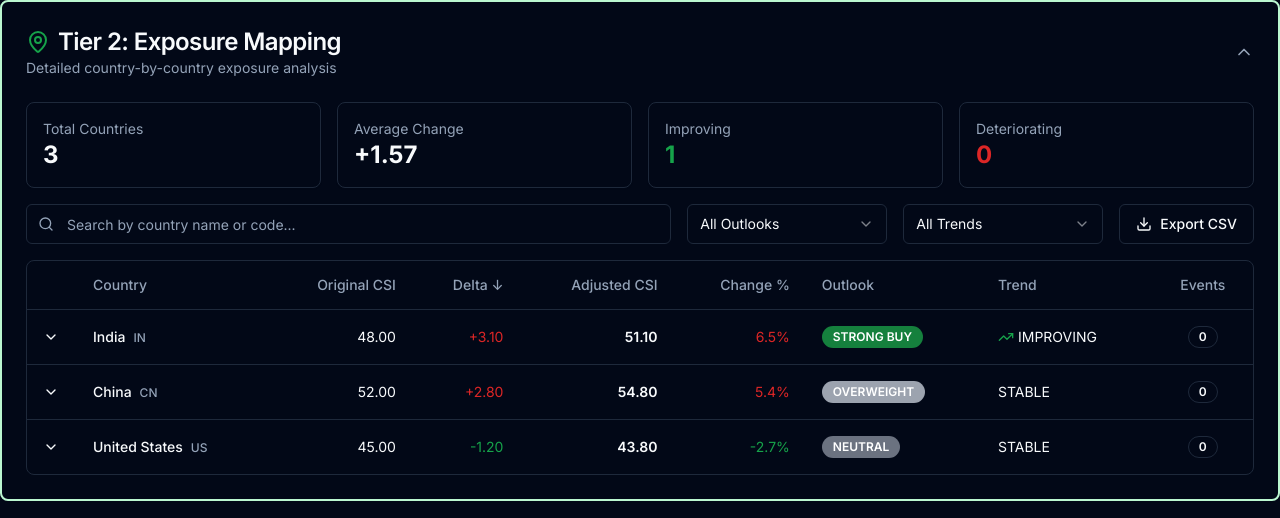
Test: ExposureMappingTier › search functionality filters countries
In the field with placeholder "Search by country name or code...": (349, 224) [26,204,671,244], type "China"
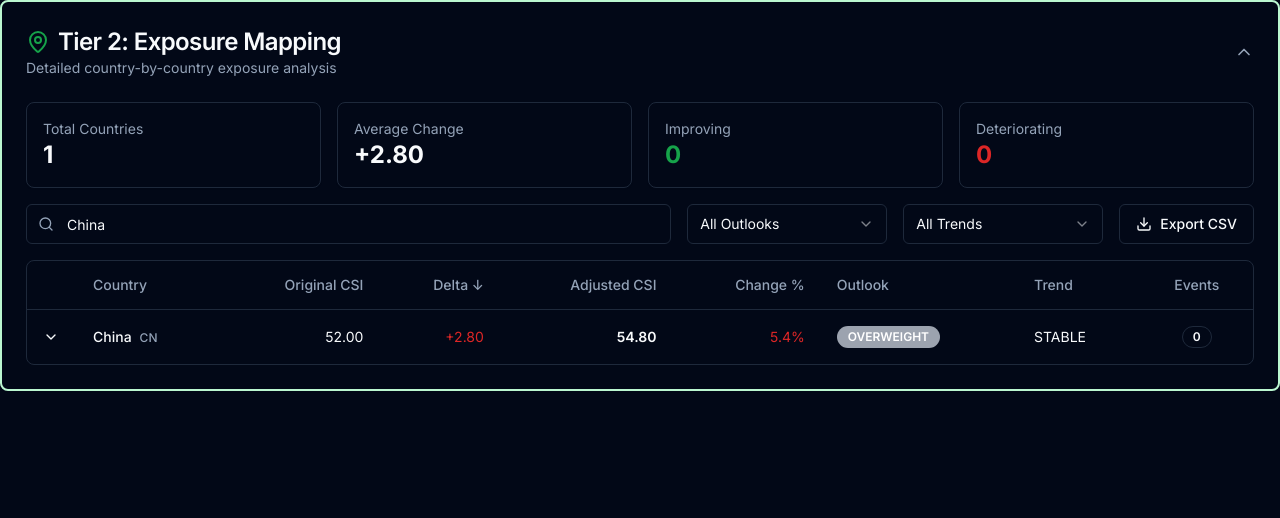
Expected: the text "China" is shown, [93,328,132,344]
Now the text "United States" is gone
